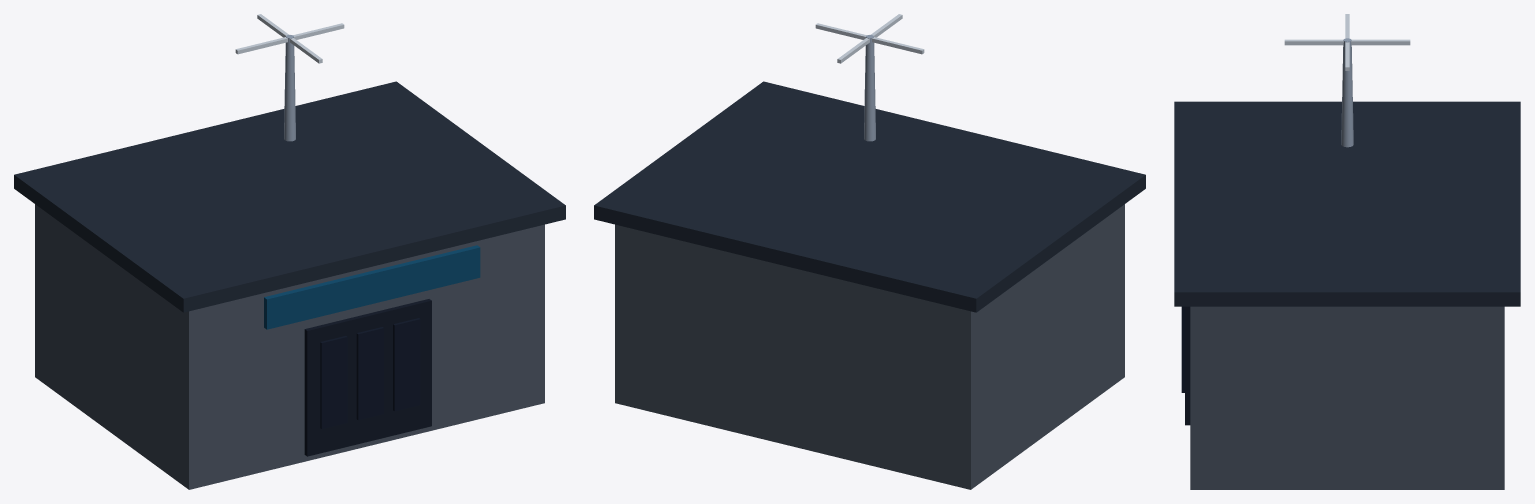
File: yard-telemetry-body-authored-atlas.glb
3 views of the same model, side by side, from view 1: azimuth 30°, elevation 25°; view 2: azimuth 150°, elevation 25°; view 3: azimuth 270°, elevation 25° (orthographic). The views are drawn at different scales.
Parts seen in each view (by area): view 1: Authored surface.056; view 2: Authored surface.056; view 3: Authored surface.056.
Boxes of the visible parts, x1,y1,x2,y2 form: Authored surface.056: [14, 14, 565, 489]; Authored surface.056: [594, 14, 1145, 489]; Authored surface.056: [1174, 14, 1520, 489].
Size of the model in its own units: 8.6 by 7.6 by 6.6.
1 material, 1 textured.
